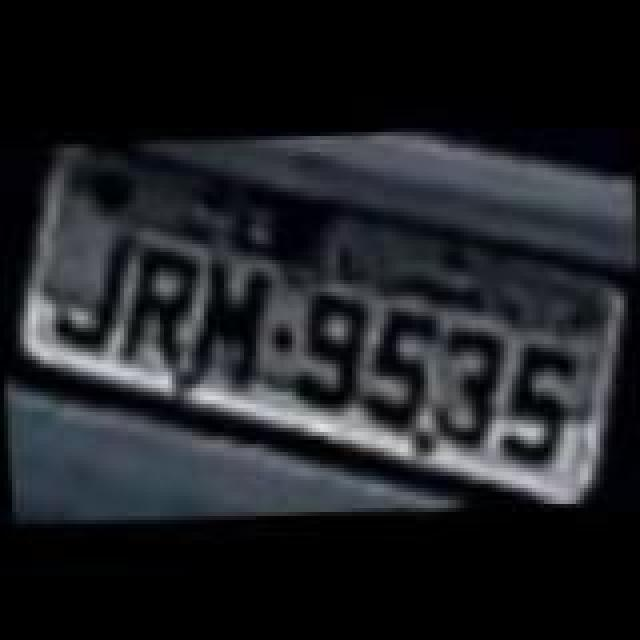3: (426, 324, 510, 452)
5: (488, 336, 592, 484), (354, 300, 450, 432)
9: (288, 286, 372, 410)
J: (46, 228, 142, 352)
M: (184, 252, 276, 396)
R: (110, 246, 206, 370)
